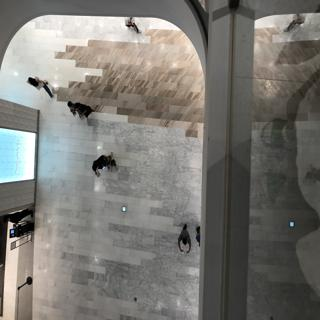person: (63, 93, 100, 127), (87, 152, 128, 182), (27, 74, 53, 103), (177, 221, 195, 260)
